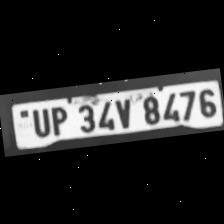3: (70, 100, 97, 134)
4: (92, 97, 116, 130), (158, 89, 181, 123)
6: (193, 86, 218, 119)
7: (176, 87, 197, 121)
8: (136, 92, 162, 125)
P: (46, 103, 72, 136)
U: (26, 105, 50, 138)
V: (110, 94, 136, 128)
